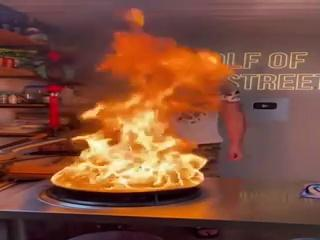Fire: (55, 12, 223, 189)
